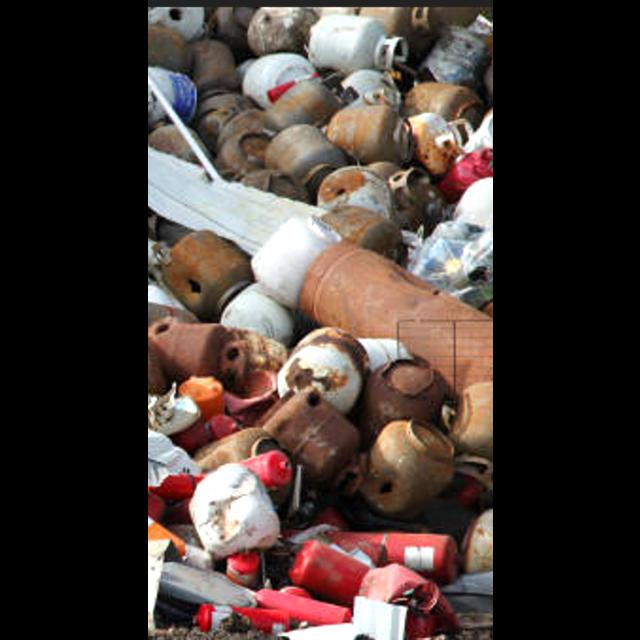Cylinders: (272, 322, 367, 404), (302, 13, 417, 73)
